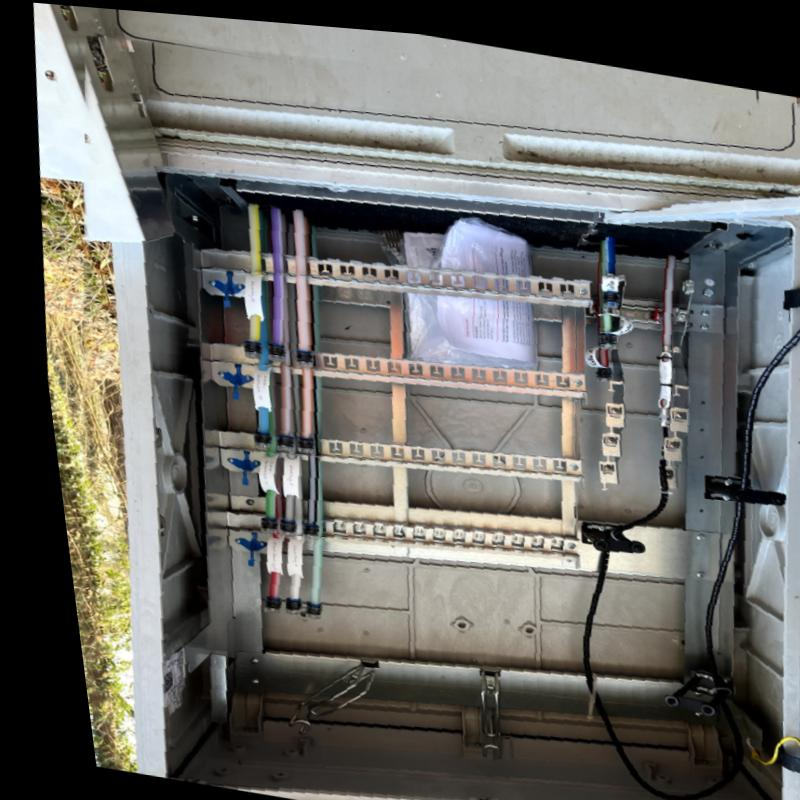NT-Gehause: (77, 21, 800, 800)
